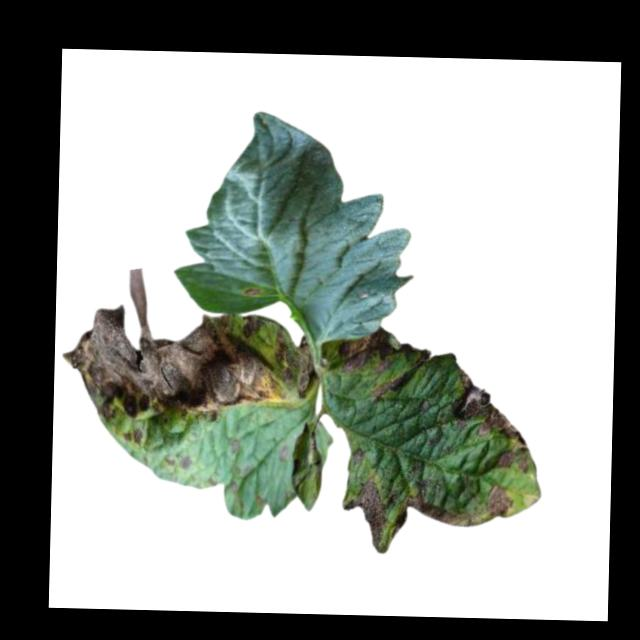Early_blight: (60, 270, 315, 426), (447, 366, 535, 473), (337, 326, 398, 376), (348, 476, 389, 548), (394, 495, 475, 530), (486, 483, 514, 521), (368, 379, 404, 403), (121, 427, 145, 446), (177, 455, 193, 471), (244, 287, 260, 299)
